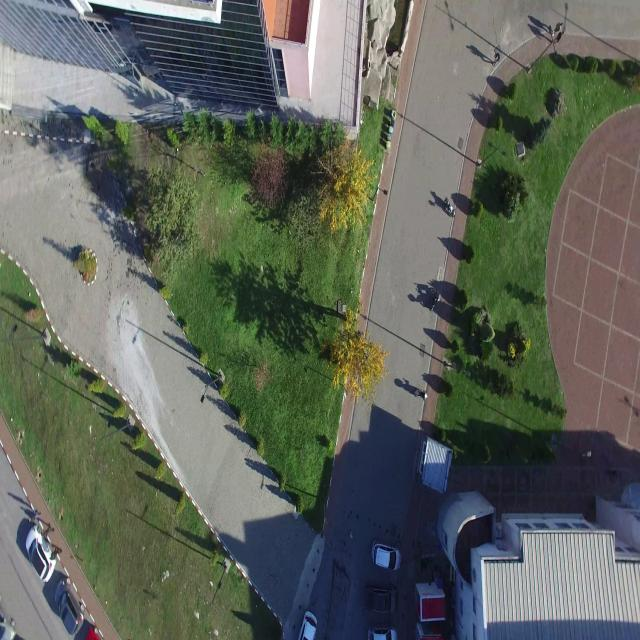p3rson: (41, 523, 55, 537), (50, 546, 62, 561), (28, 510, 41, 523), (554, 31, 564, 44), (554, 22, 564, 33), (493, 52, 500, 66)
